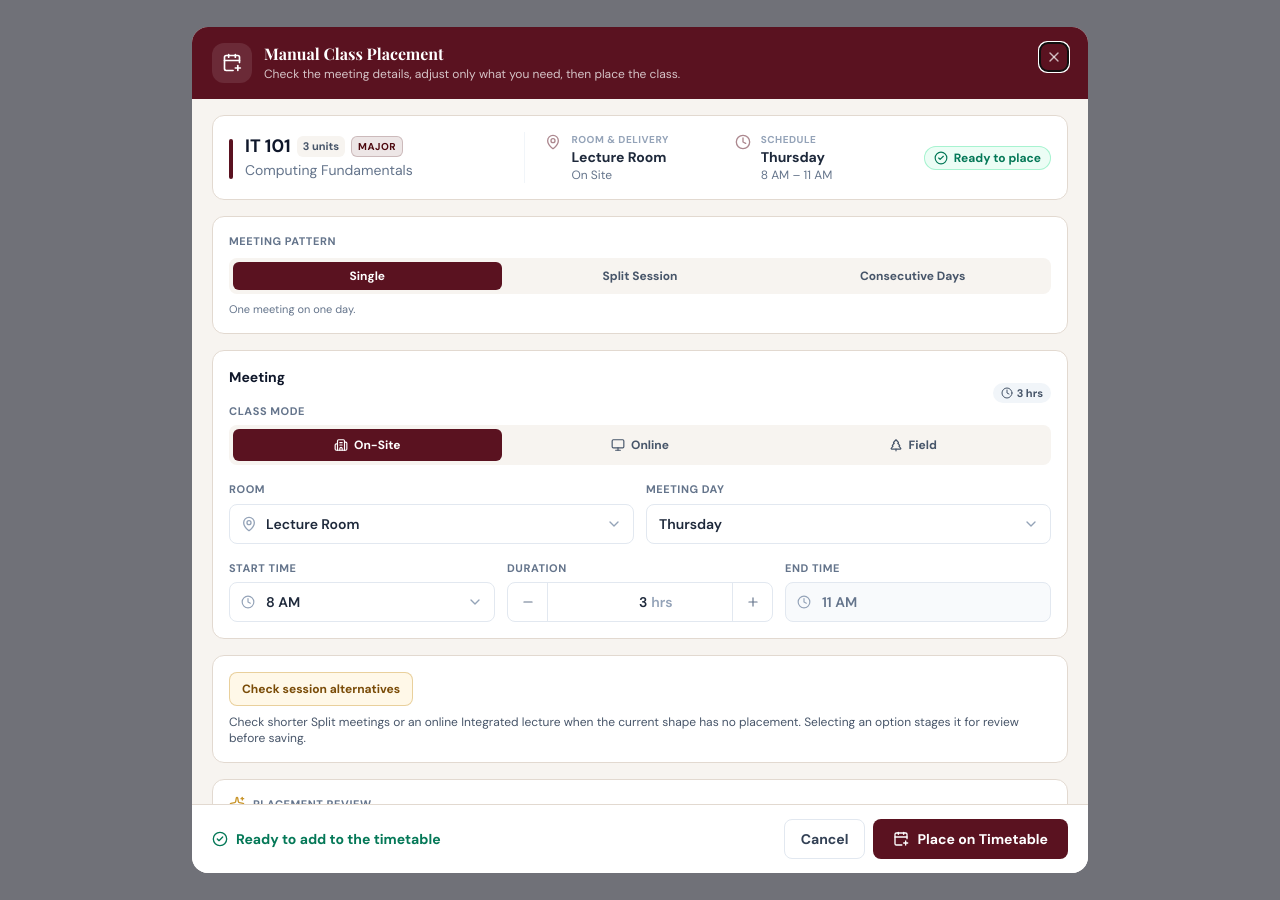
Scenario: DropModal Integrated configuration › passes the course Required Day to the session-alternative empty state
What coordinates should you click on to do the following:
click the button "Check session alternatives"
I would click on:
 (321, 689)
Its box is [229,672,413,706].
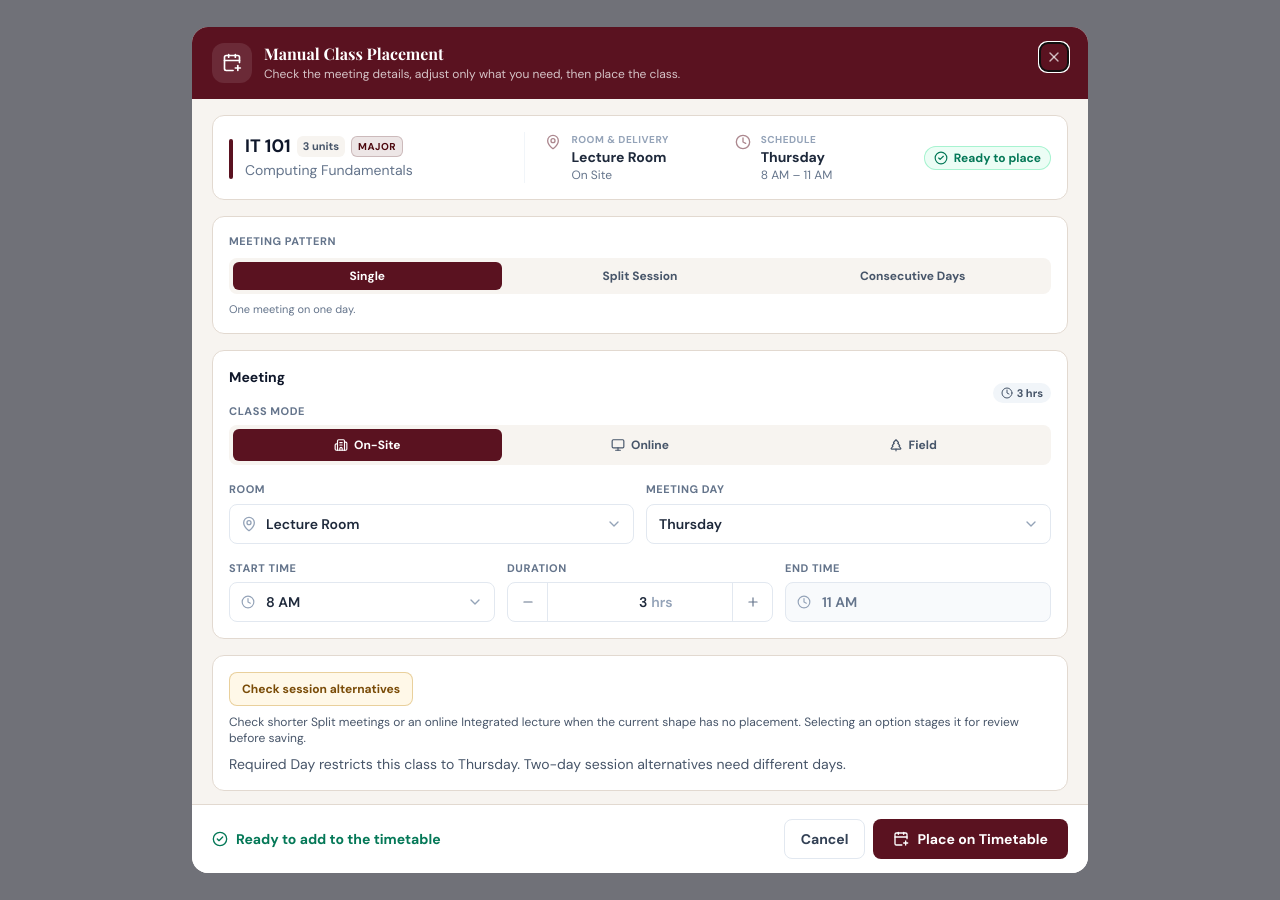
Check: the text "Required Day restricts this class to Thursday" is shown, box [229,755,846,773]
